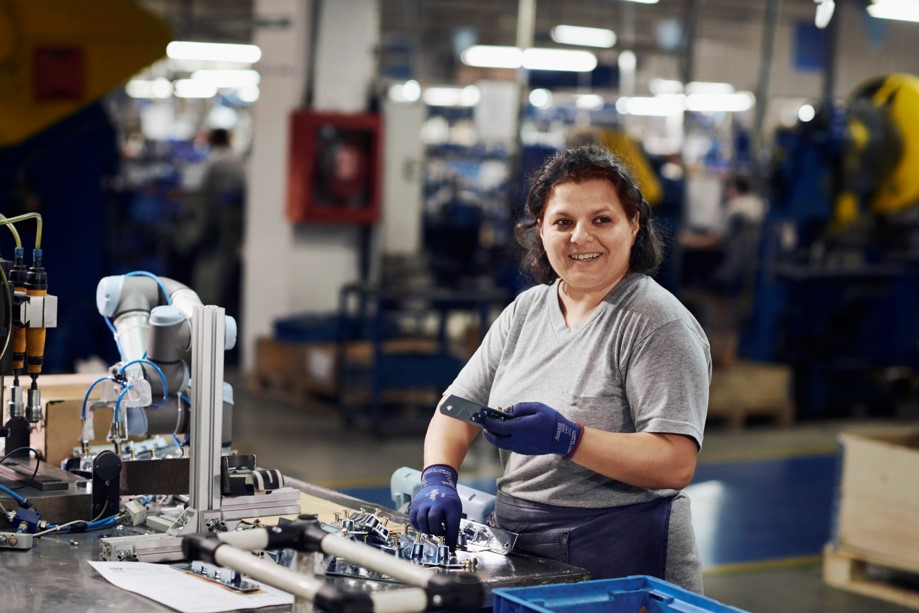person: (409, 141, 713, 600)
robot: (94, 268, 241, 495)
